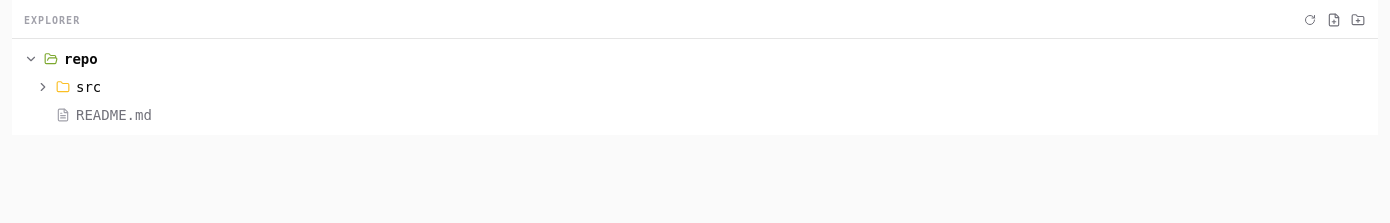
Test case: expanding folders › expands nested folders
Click the button "src": {"x": 43, "y": 87} [36,76,1370,98]
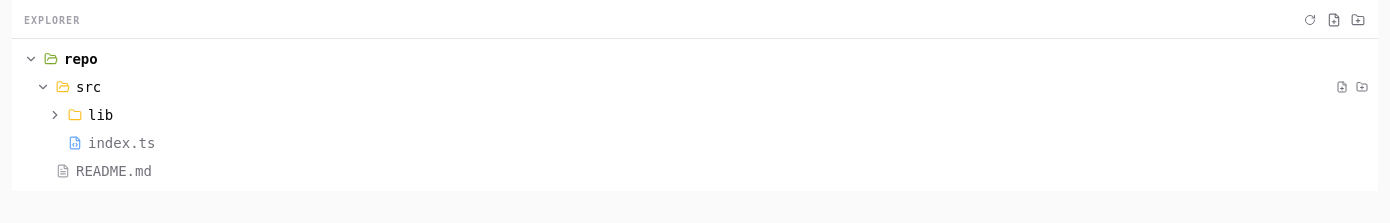
Click the button "lib": {"x": 55, "y": 115} [48,104,1370,126]
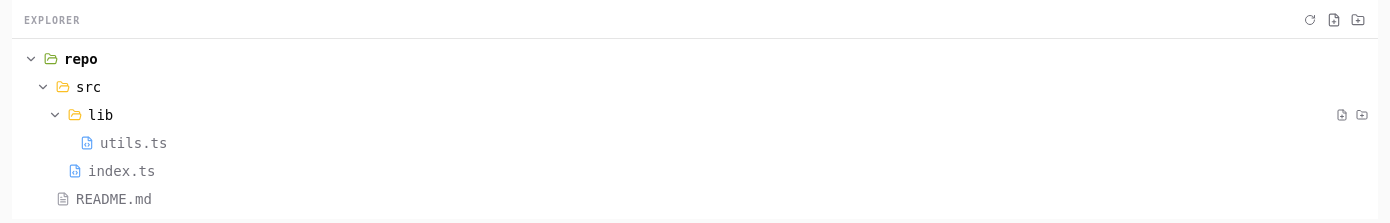
Now the text "utils.ts" is shown, box [100,134,167,150]
